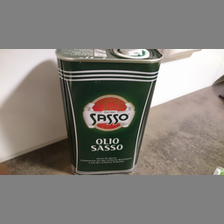oil: (54, 49, 165, 174)
